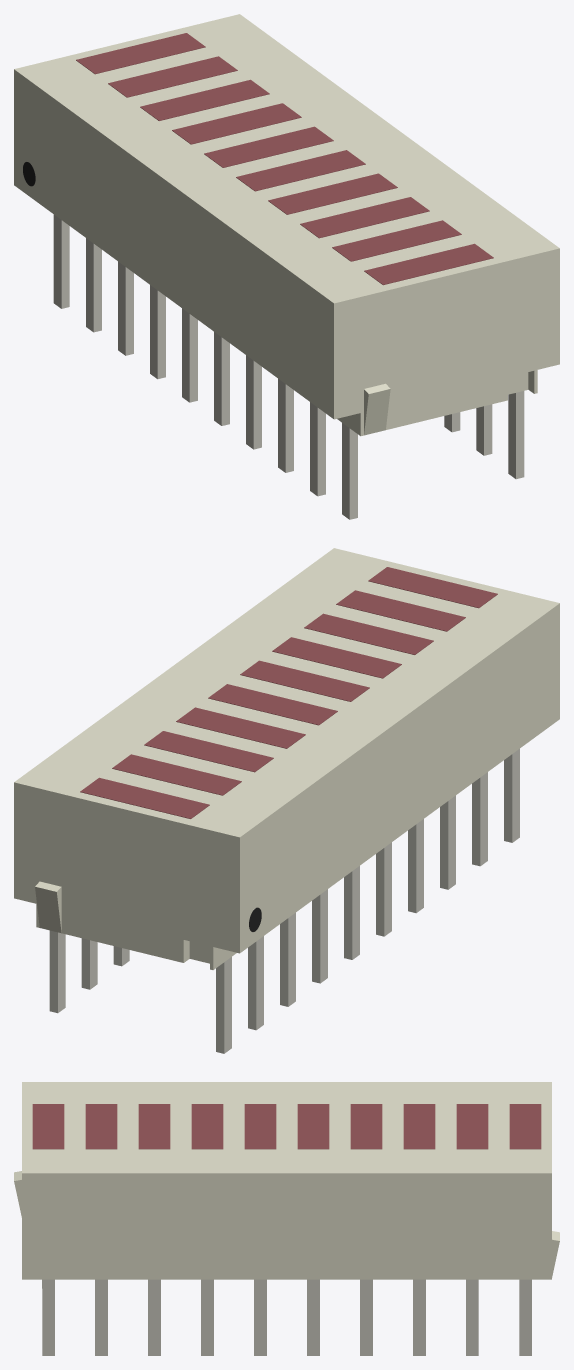
Rendered from kc-hdsp-4832.glb.
3 renders of one model, top to bottom at view 1: azimuth 30°, elevation 25°; view 2: azimuth 150°, elevation 25°; view 3: azimuth 270°, elevation 25°, orthographic. The views are drawn at different scales.
Visible parts, largest first — view 1: 0.75_0.75_0.6666666666666666_0, 0.3333333333333333_0.08333333333333333_0.08333333333333333_0, 0.6666666666666666_0.6666666666666666_0.5833333333333334_0.8; view 2: 0.75_0.75_0.6666666666666666_0, 0.3333333333333333_0.08333333333333333_0.08333333333333333_0, 0.6666666666666666_0.6666666666666666_0.5833333333333334_0.8; view 3: 0.75_0.75_0.6666666666666666_0, 0.3333333333333333_0.08333333333333333_0.08333333333333333_0, 0.6666666666666666_0.6666666666666666_0.5833333333333334_0.8.
Part boxes in pixels (box(x1,y1,x2,y2)): 0.75_0.75_0.6666666666666666_0: box(14, 14, 559, 436); 0.3333333333333333_0.08333333333333333_0.08333333333333333_0: box(76, 33, 493, 285); 0.6666666666666666_0.6666666666666666_0.5833333333333334_0.8: box(53, 214, 524, 519); 0.75_0.75_0.6666666666666666_0: box(14, 548, 559, 969); 0.3333333333333333_0.08333333333333333_0.08333333333333333_0: box(80, 567, 497, 818); 0.6666666666666666_0.6666666666666666_0.5833333333333334_0.8: box(49, 749, 519, 1053); 0.75_0.75_0.6666666666666666_0: box(14, 1082, 559, 1279); 0.3333333333333333_0.08333333333333333_0.08333333333333333_0: box(32, 1104, 541, 1149); 0.6666666666666666_0.6666666666666666_0.5833333333333334_0.8: box(42, 1279, 531, 1355).
Bounding box in the file's own units: 1.04 × 1.02 × 2.62.
